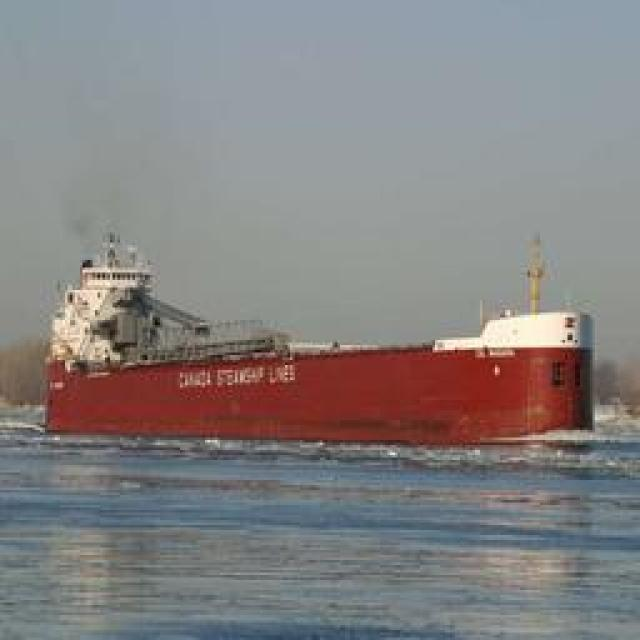ship2: (42, 229, 594, 446)
